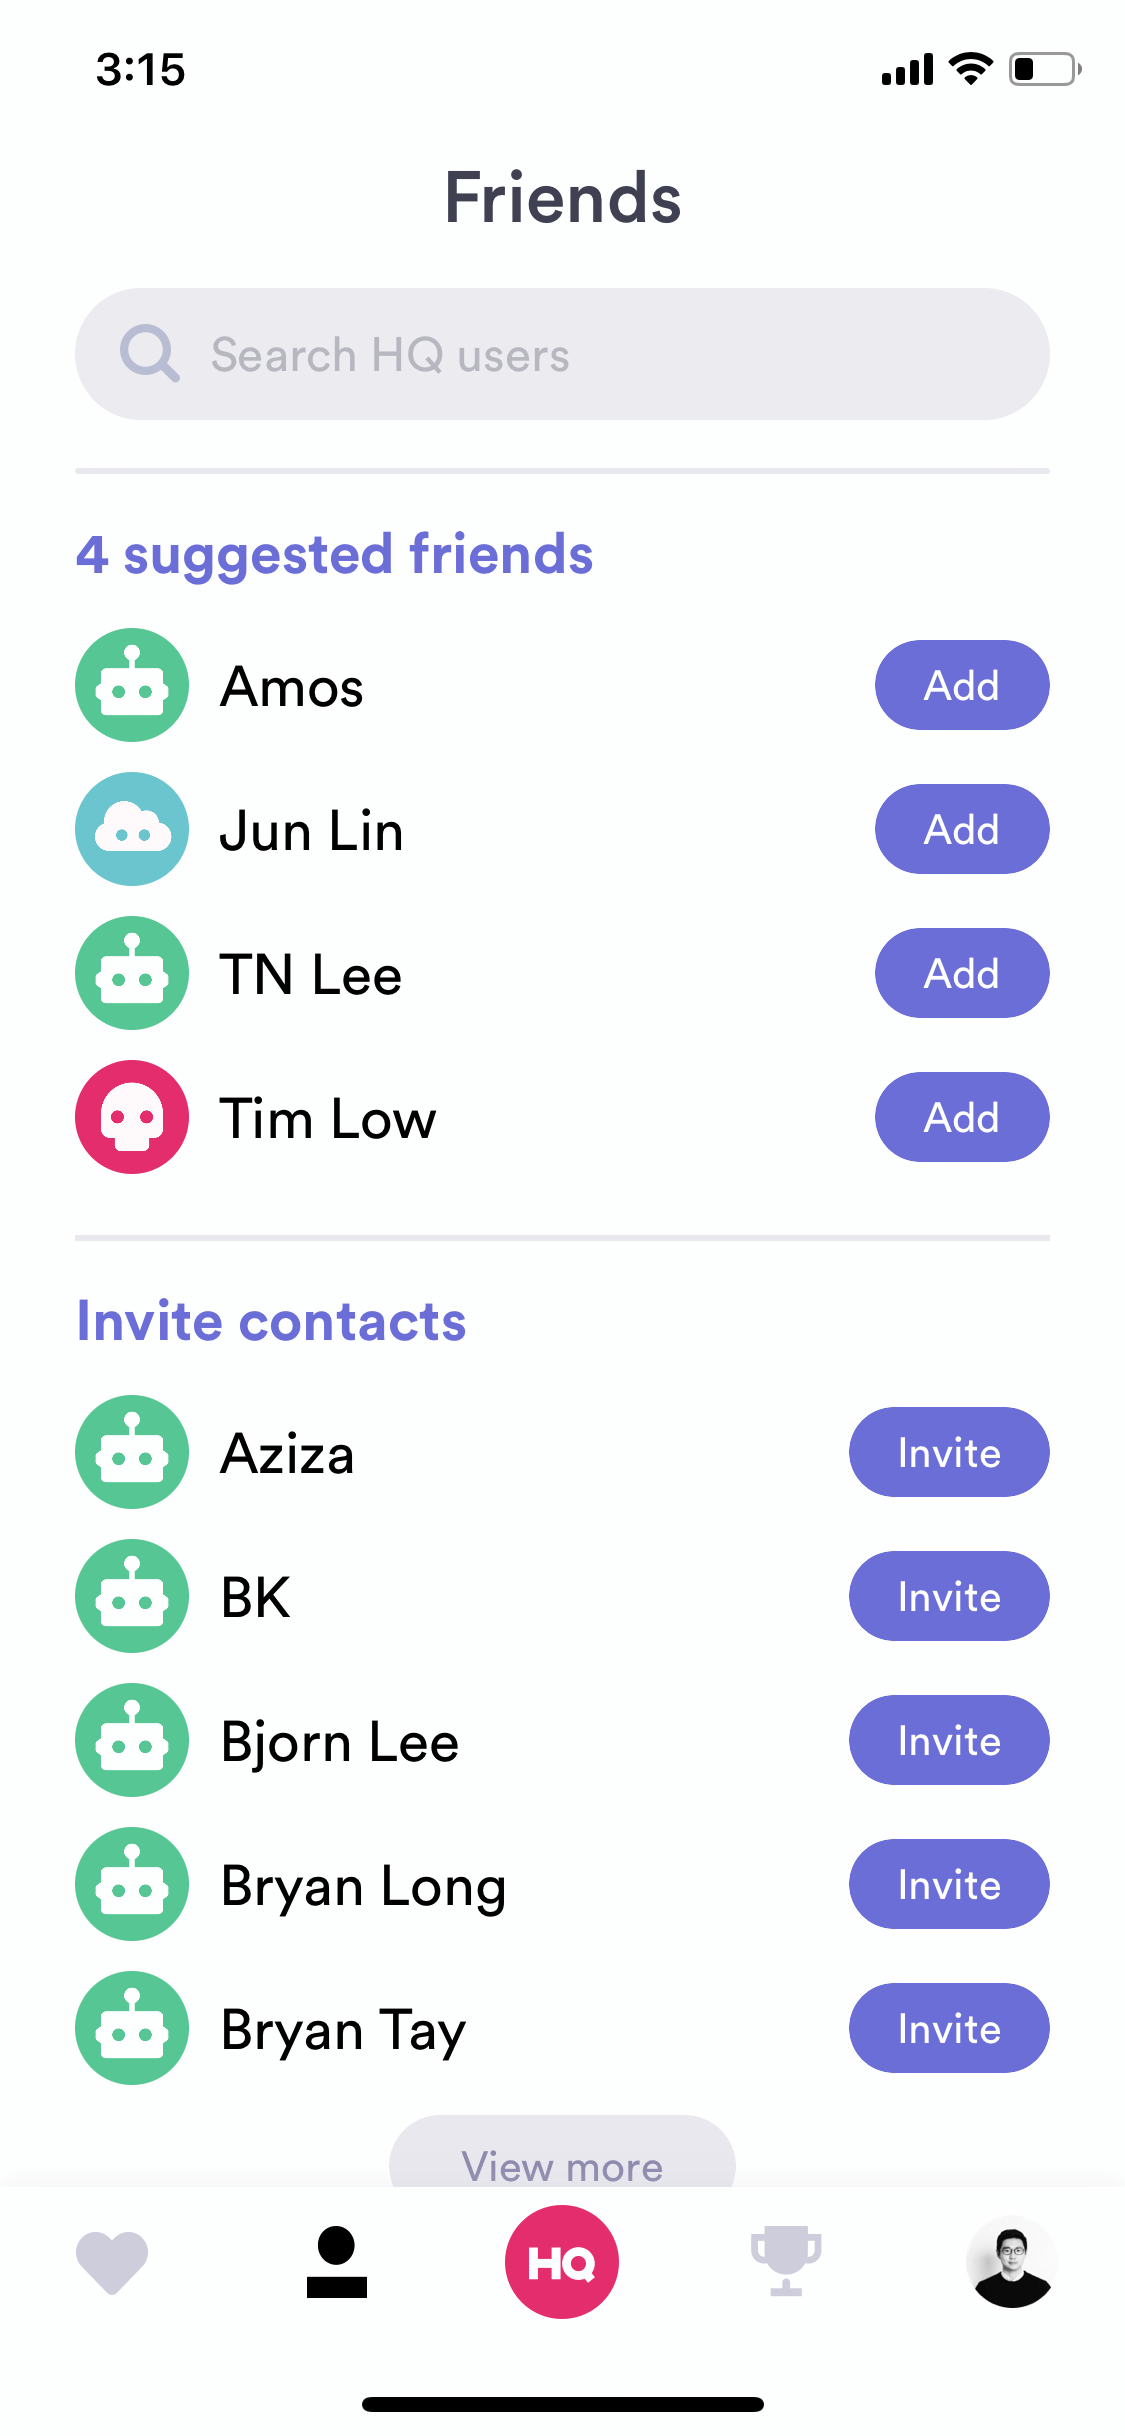Buttons: (354, 2100, 761, 2197), (834, 1678, 1055, 1805), (838, 1390, 1057, 1504), (841, 1829, 1060, 1940), (838, 1543, 1057, 1651), (844, 1975, 1054, 2086), (866, 775, 1057, 884), (867, 631, 1058, 735), (869, 923, 1052, 1028), (876, 1063, 1050, 1170)
